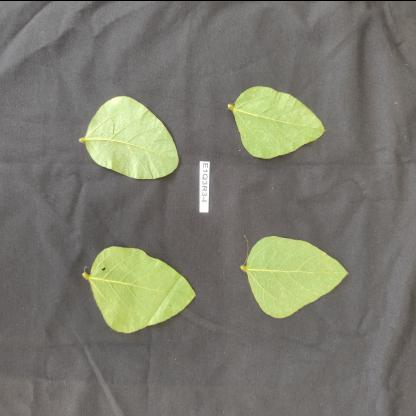label: (188, 140, 214, 216)
leaflets: (74, 239, 204, 358), (234, 225, 358, 333), (60, 86, 186, 188), (227, 64, 329, 170)
